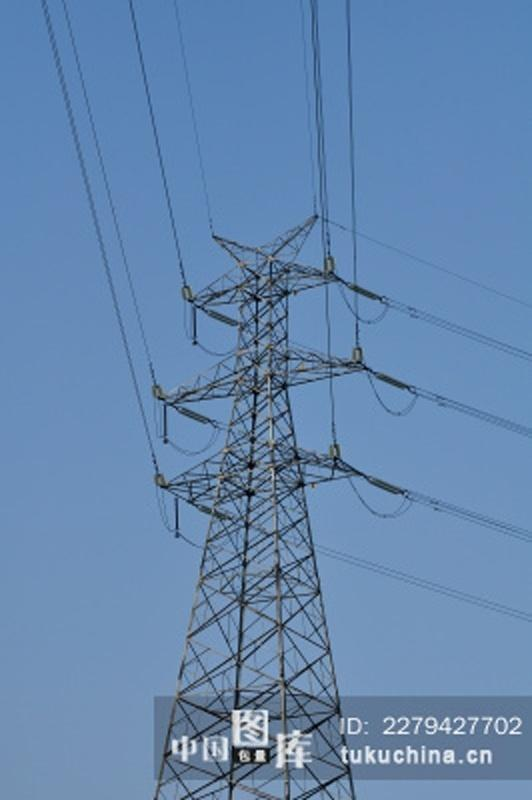power_tower: (155, 220, 372, 795)
